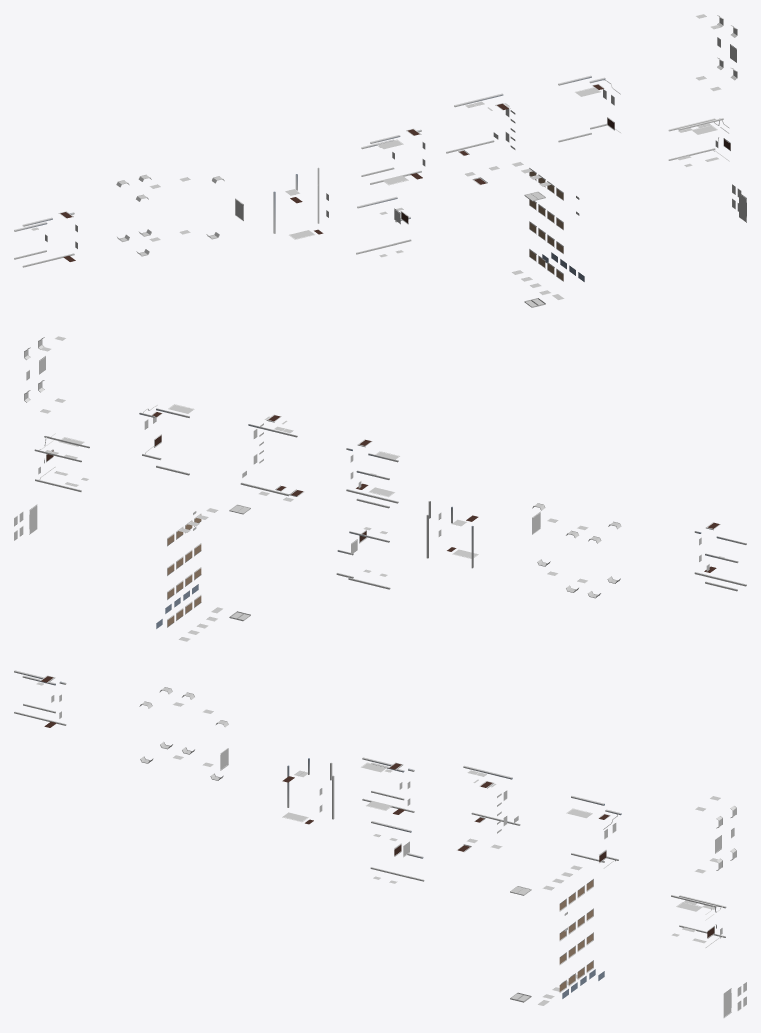
The picture shows the model from 3 angles, top to bottom: view 1: azimuth 30°, elevation 25°; view 2: azimuth 150°, elevation 25°; view 3: azimuth 330°, elevation 25°; orthographic projection.
Visible parts, largest first — view 1: SM_000296.001; view 2: SM_000296.001; view 3: SM_000296.001.
Boxes of the visible parts, bbox=[...] form: SM_000296.001: bbox=[14, 14, 746, 307]; SM_000296.001: bbox=[14, 336, 746, 641]; SM_000296.001: bbox=[14, 670, 746, 1017].
Size of the model in its own units: 122 by 37.67 by 13.05.
